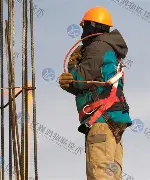safety belt: (66, 47, 132, 127)
